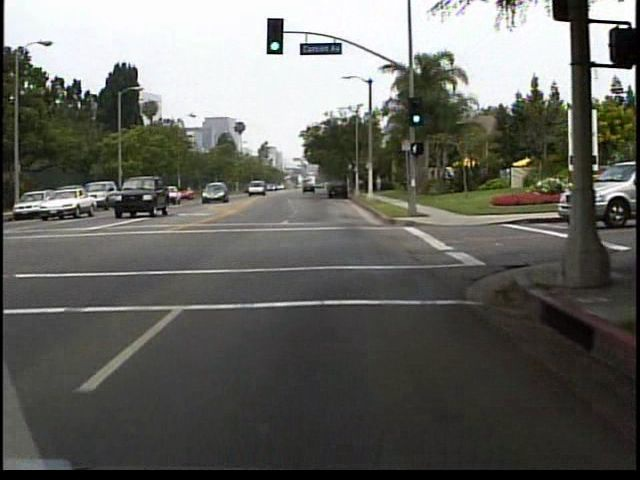person: (368, 175, 377, 199), (375, 172, 384, 192)
